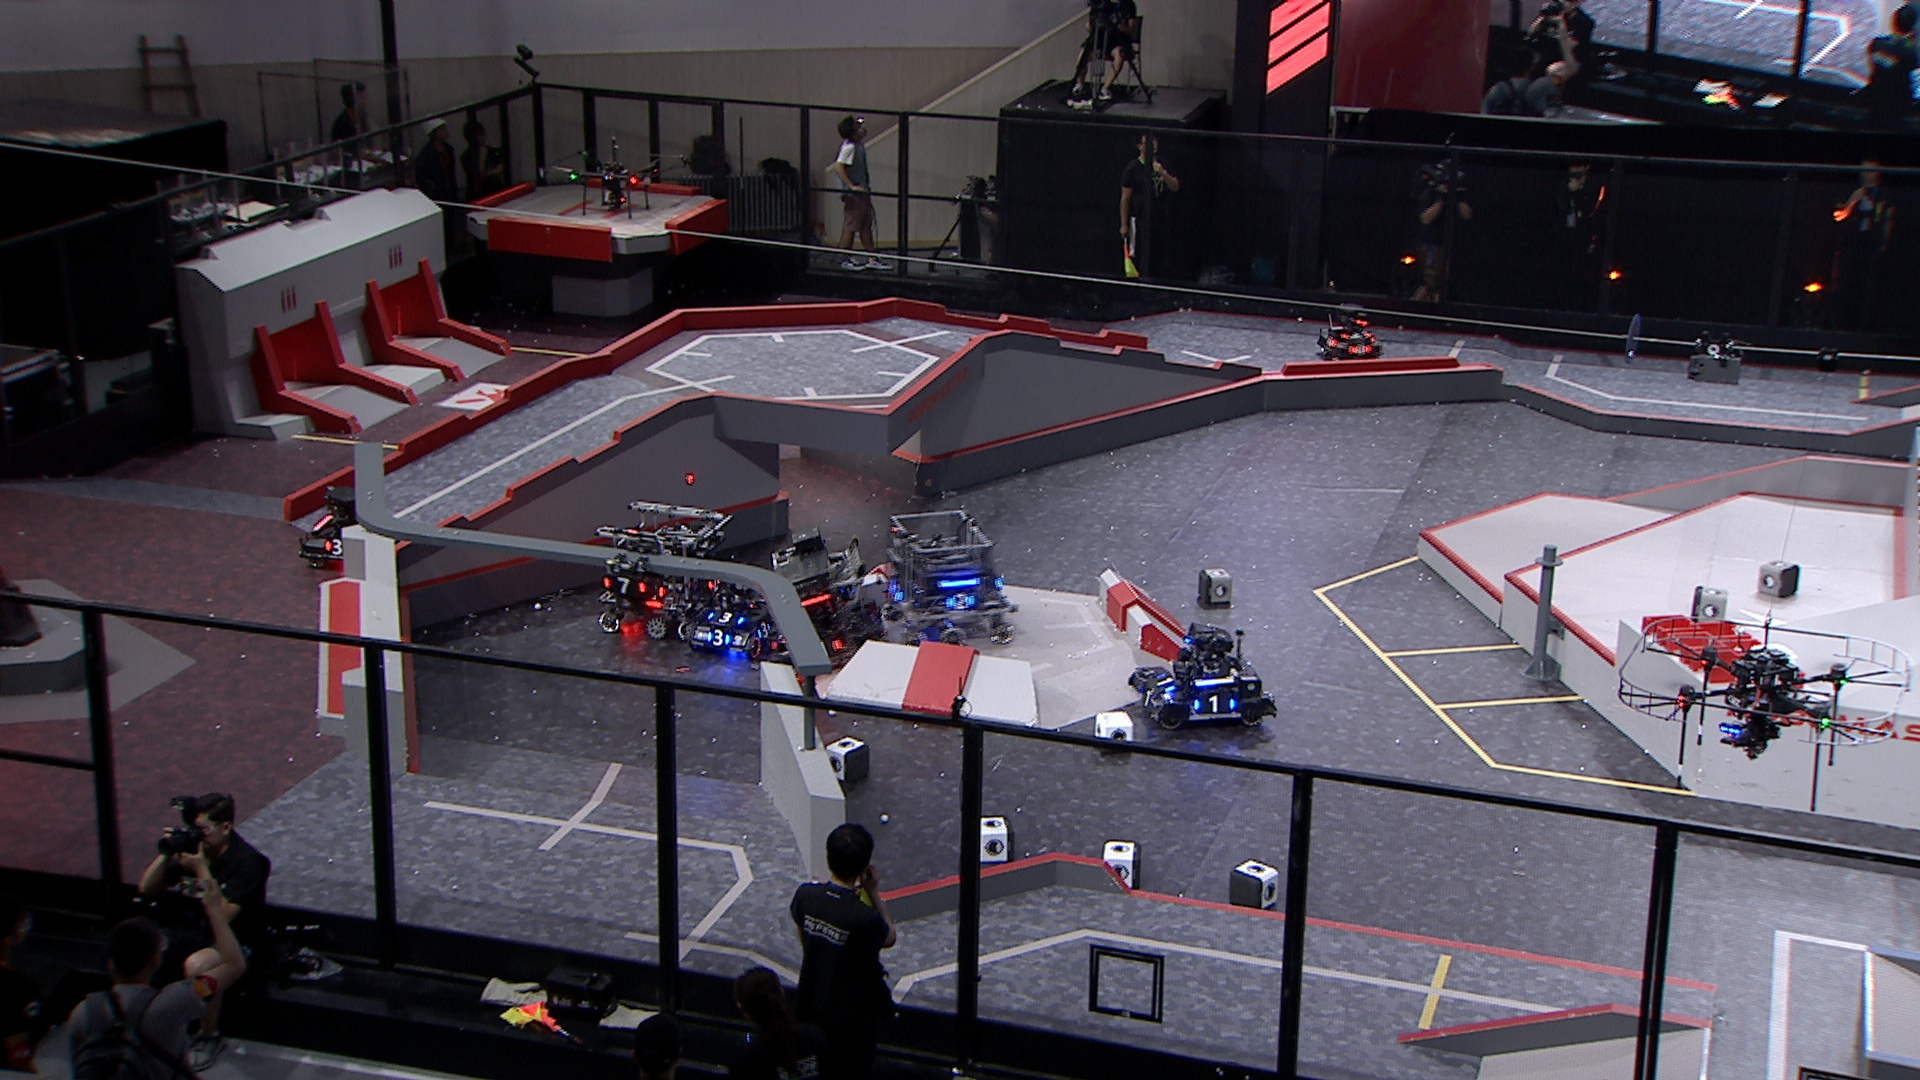armor: (603, 574, 646, 595), (1196, 692, 1232, 712), (949, 593, 977, 612), (1155, 673, 1178, 695), (887, 578, 906, 603), (711, 609, 741, 624), (1139, 684, 1158, 708), (707, 629, 731, 647), (754, 618, 771, 641), (1320, 334, 1338, 352), (323, 538, 344, 553), (1346, 342, 1371, 353), (705, 575, 723, 591), (1342, 328, 1367, 339)
car: (589, 496, 740, 642), (876, 509, 1011, 650), (757, 529, 887, 661), (1130, 621, 1278, 737), (679, 564, 787, 659), (297, 483, 390, 571), (1311, 299, 1386, 363)
watcher: (596, 522, 670, 624)
